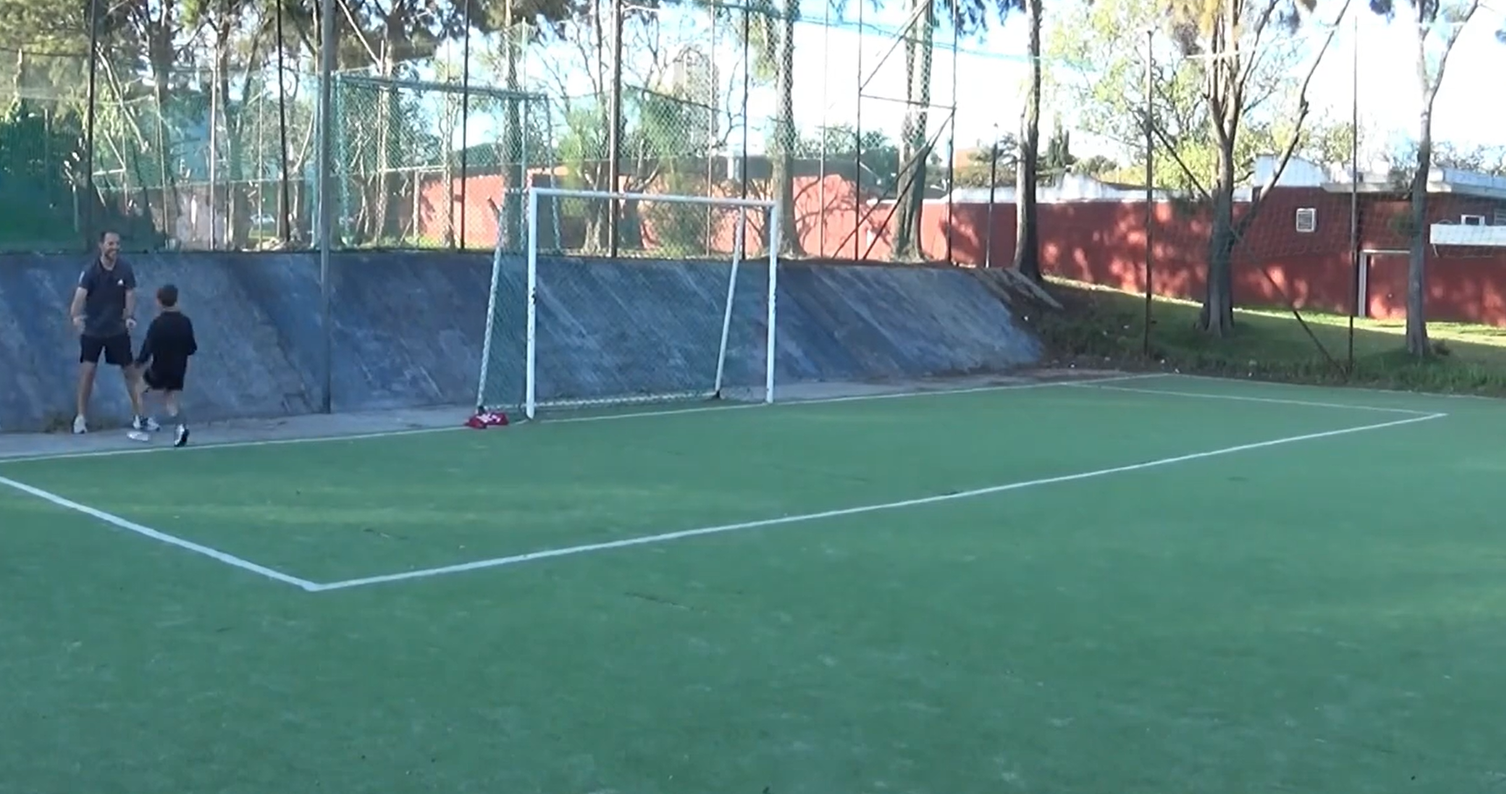goal: (459, 176, 799, 426)
